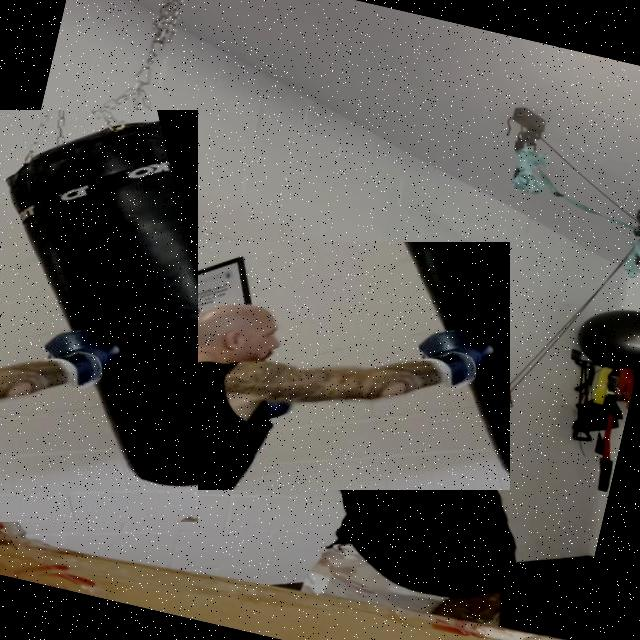punch: (62, 242, 510, 490)
